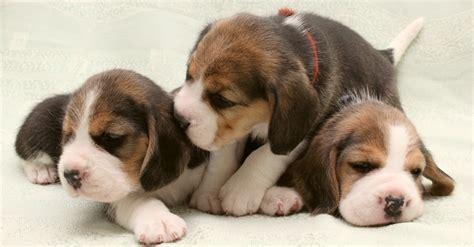dog: (176, 9, 423, 217), (16, 68, 301, 244), (292, 97, 452, 227)
